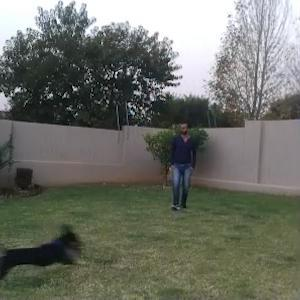follow: (169, 118, 196, 211)
